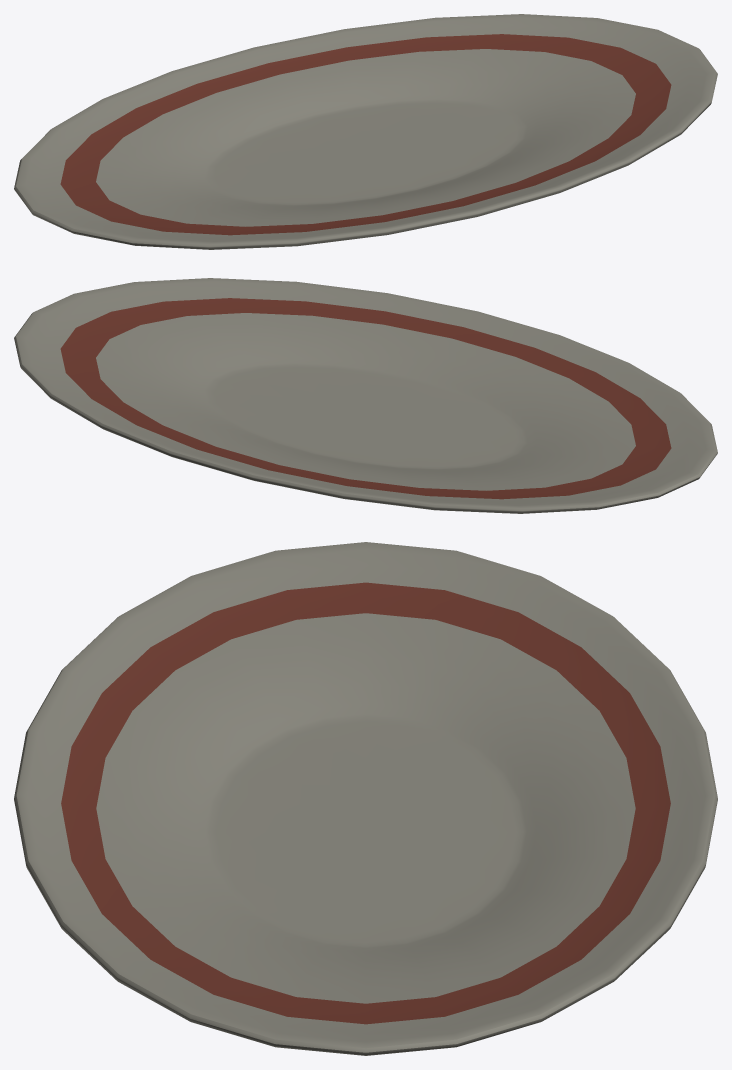
File: plate_long.fbx
The picture shows the model from 3 angles, top to bottom: view 1: azimuth 30°, elevation 25°; view 2: azimuth 150°, elevation 25°; view 3: azimuth 270°, elevation 25°; orthographic projection. The views are drawn at different scales.
Parts seen in each view (by area): view 1: plate_long; view 2: plate_long; view 3: plate_long.
Boxes of the visible parts, bbox=[...] form: plate_long: bbox=[14, 14, 717, 249]; plate_long: bbox=[14, 278, 717, 513]; plate_long: bbox=[14, 542, 717, 1055].
Size of the model in its own units: 0.4863 by 0.2843 by 0.0218.
